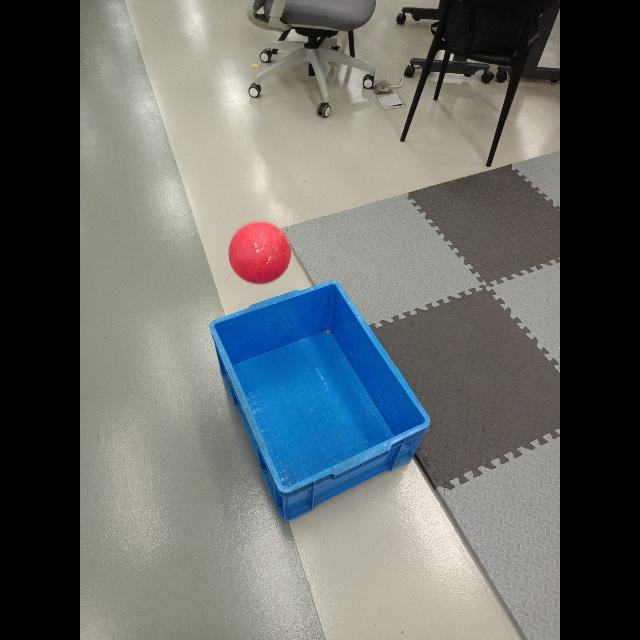R: (229, 221, 291, 283)
